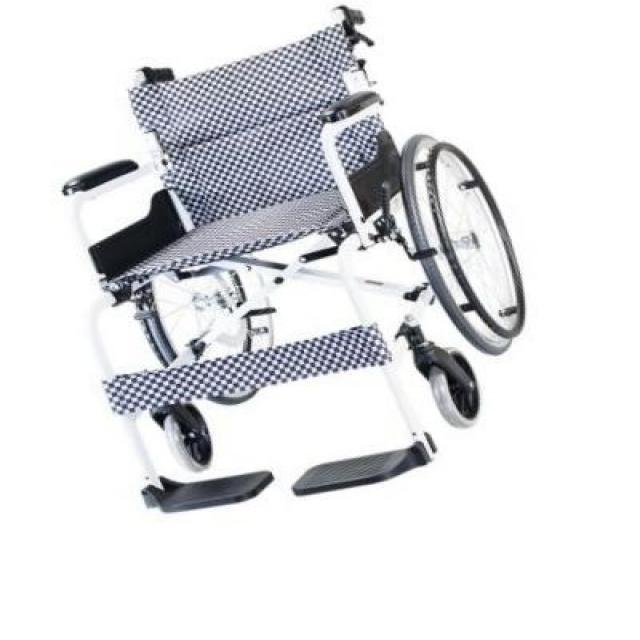wheelchair: (49, 0, 535, 522)
